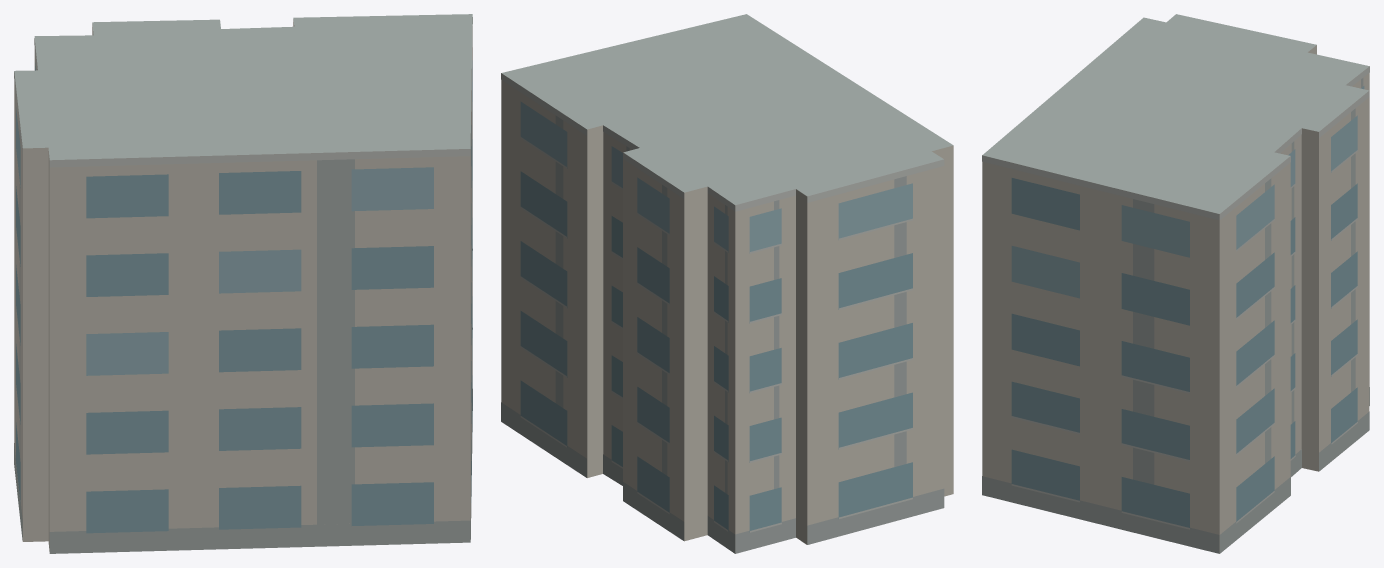
The model's file is survey-upis-32887340.glb.
3 views of the same model, side by side, from view 1: azimuth 30°, elevation 25°; view 2: azimuth 150°, elevation 25°; view 3: azimuth 270°, elevation 25° (orthographic). The views are drawn at different scales.
Parts seen in each view (by area): view 1: survey-upis-32887340.tmp; view 2: survey-upis-32887340.tmp; view 3: survey-upis-32887340.tmp.
Part boxes in pixels (bbox=[...]): survey-upis-32887340.tmp: bbox=[14, 14, 472, 553]; survey-upis-32887340.tmp: bbox=[501, 14, 953, 553]; survey-upis-32887340.tmp: bbox=[982, 14, 1369, 553].
Bounding box in the file's own units: 16.55 × 13.1 × 13.55.
